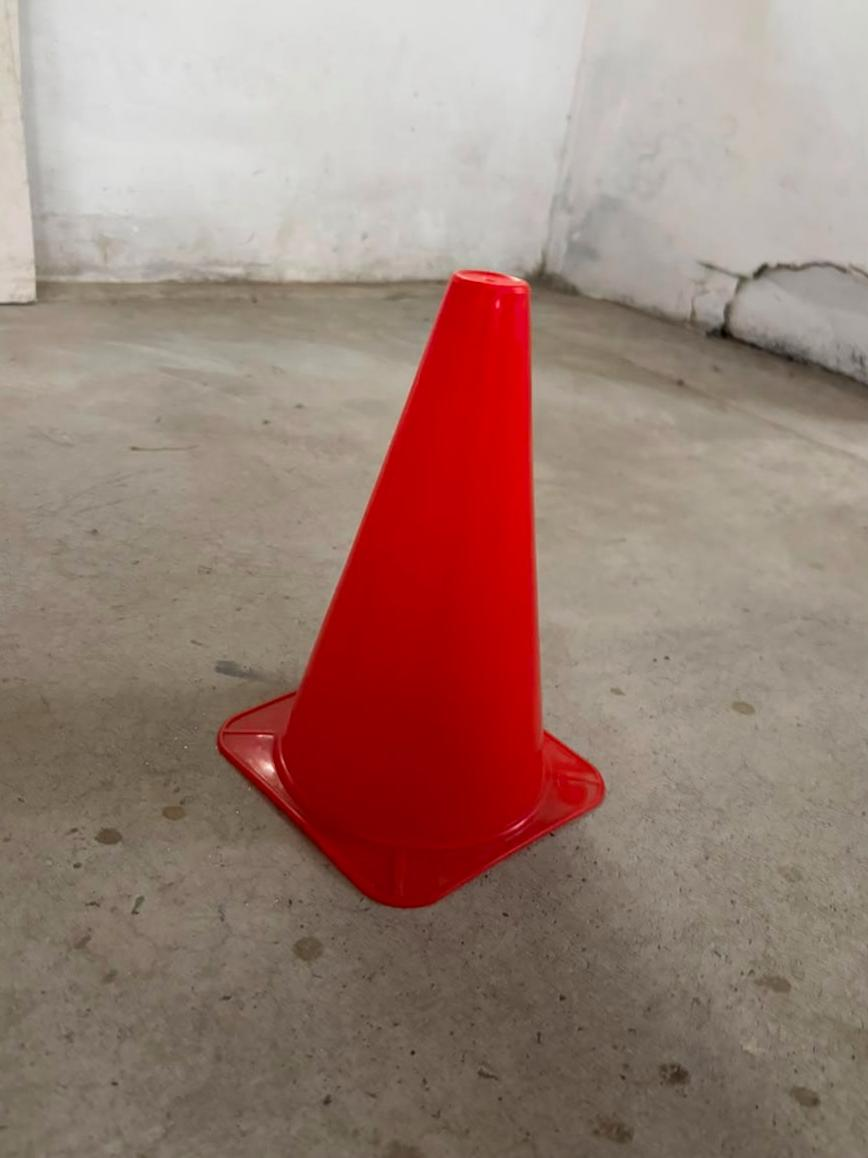0 cone: (218, 270, 604, 907)
